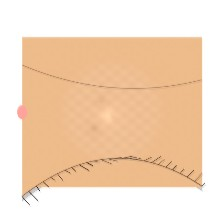pinguecula_lesion: (29, 106, 65, 135)
